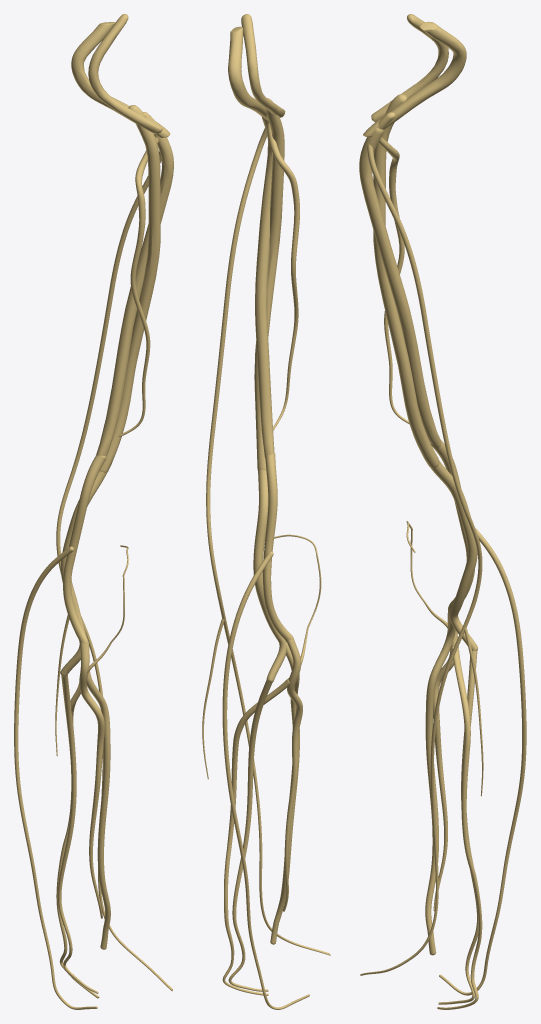
Rendered from lower-right.glb.
3 renders of one model, left to right at view 1: azimuth 90°, elevation 25°; view 2: azimuth 150°, elevation 25°; view 3: azimuth 270°, elevation 25°, orthographic. The views are drawn at different scales.
Visible parts, largest first — view 1: bp3d_FMA70249_FJ2143, bp3d_FMA21188_FJ2144, bp3d_FMA21379_FJ2145, bp3d_FMA44334_FJ2176, bp3d_FMA43896_FJ2130, bp3d_FMA44328_FJ2171, bp3d_FMA44336_FJ2193, bp3d_FMA43898_FJ2172, bp3d_FMA51042_FJ2135, bp3d_FMA18806_FJ3567, bp3d_FMA18885_FJ3568, bp3d_FMA77380_FJ2170 (+1 smaller); view 2: bp3d_FMA21379_FJ2145, bp3d_FMA21188_FJ2144, bp3d_FMA70249_FJ2143, bp3d_FMA44334_FJ2176, bp3d_FMA77380_FJ2170, bp3d_FMA44328_FJ2171, bp3d_FMA43898_FJ2172, bp3d_FMA44338_FJ2173, bp3d_FMA51042_FJ2135, bp3d_FMA44336_FJ2193, bp3d_FMA18885_FJ3568, bp3d_FMA18806_FJ3567 (+2 smaller); view 3: bp3d_FMA21379_FJ2145, bp3d_FMA21188_FJ2144, bp3d_FMA70249_FJ2143, bp3d_FMA44334_FJ2176, bp3d_FMA43896_FJ2130, bp3d_FMA44338_FJ2173, bp3d_FMA18885_FJ3568, bp3d_FMA77380_FJ2170, bp3d_FMA51042_FJ2135, bp3d_FMA44336_FJ2193, bp3d_FMA18806_FJ3567, bp3d_FMA43898_FJ2172 (+1 smaller).
Part boxes in pixels (x1,y1,x2,y2): bp3d_FMA70249_FJ2143: [99, 105, 160, 472]; bp3d_FMA21188_FJ2144: [96, 134, 173, 456]; bp3d_FMA21379_FJ2145: [55, 151, 172, 991]; bp3d_FMA44334_FJ2176: [14, 546, 97, 1009]; bp3d_FMA43896_FJ2130: [86, 671, 110, 949]; bp3d_FMA44328_FJ2171: [63, 455, 106, 644]; bp3d_FMA44336_FJ2193: [79, 642, 104, 918]; bp3d_FMA43898_FJ2172: [57, 675, 98, 993]; bp3d_FMA51042_FJ2135: [118, 112, 158, 436]; bp3d_FMA18806_FJ3567: [88, 14, 162, 133]; bp3d_FMA18885_FJ3568: [71, 22, 170, 137]; bp3d_FMA77380_FJ2170: [60, 471, 107, 676]; bp3d_FMA21379_FJ2145: [202, 128, 330, 955]; bp3d_FMA21188_FJ2144: [255, 116, 274, 459]; bp3d_FMA70249_FJ2143: [254, 98, 284, 470]; bp3d_FMA44334_FJ2176: [222, 551, 309, 1009]; bp3d_FMA77380_FJ2170: [253, 469, 286, 682]; bp3d_FMA44328_FJ2171: [263, 453, 293, 642]; bp3d_FMA43898_FJ2172: [228, 680, 272, 991]; bp3d_FMA44338_FJ2173: [222, 678, 289, 995]; bp3d_FMA51042_FJ2135: [266, 123, 299, 430]; bp3d_FMA44336_FJ2193: [283, 639, 302, 911]; bp3d_FMA18885_FJ3568: [228, 26, 267, 119]; bp3d_FMA18806_FJ3567: [241, 14, 285, 117]; bp3d_FMA21379_FJ2145: [360, 143, 483, 975]; bp3d_FMA21188_FJ2144: [359, 128, 441, 448]; bp3d_FMA70249_FJ2143: [373, 94, 439, 468]; bp3d_FMA44334_FJ2176: [439, 528, 526, 995]; bp3d_FMA43896_FJ2130: [425, 615, 455, 955]; bp3d_FMA44338_FJ2173: [437, 647, 482, 1009]; bp3d_FMA18885_FJ3568: [363, 21, 466, 137]; bp3d_FMA77380_FJ2170: [431, 461, 477, 650]; bp3d_FMA51042_FJ2135: [378, 112, 409, 424]; bp3d_FMA44336_FJ2193: [433, 606, 458, 911]; bp3d_FMA18806_FJ3567: [371, 14, 448, 122]; bp3d_FMA43898_FJ2172: [438, 650, 478, 1004].
Size of the model in its own units: 0.099 by 0.9592 by 0.1437.
